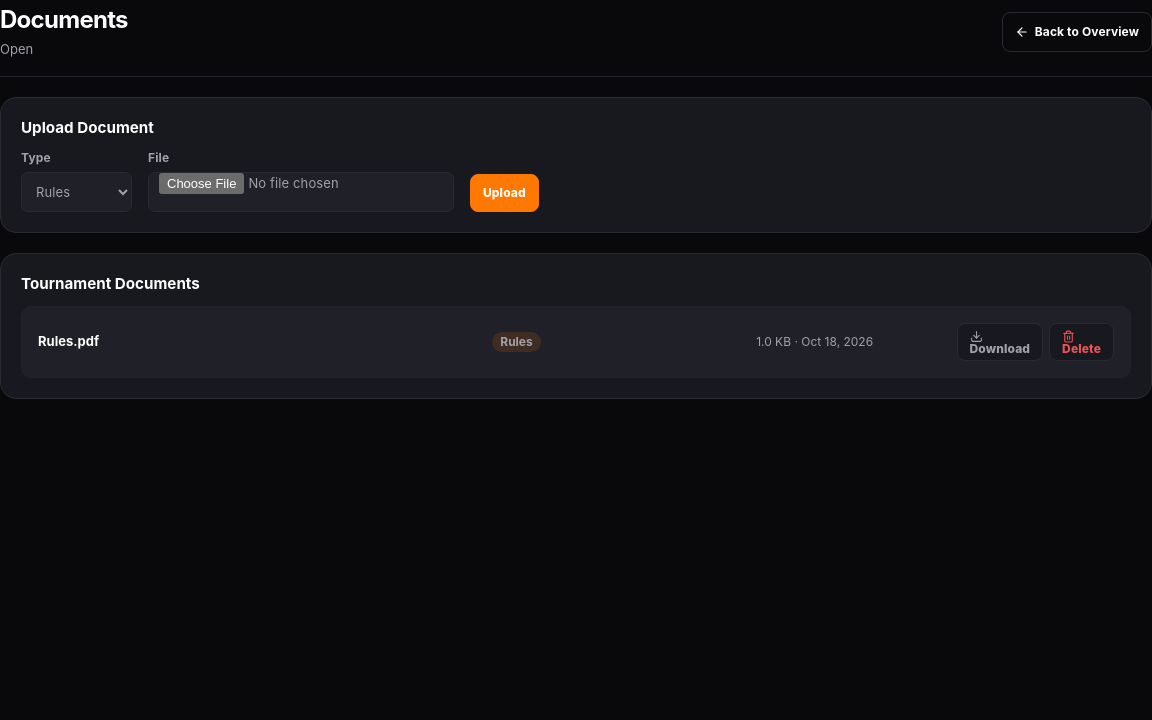
Scenario: document deletion confirmation › keeps the document when cancelled and deletes only after confirmation
This screenshot has width=1152, height=720.
Click the button with aria-label "Delete Rules.pdf" at [1082, 342], box [1049, 323, 1114, 361]
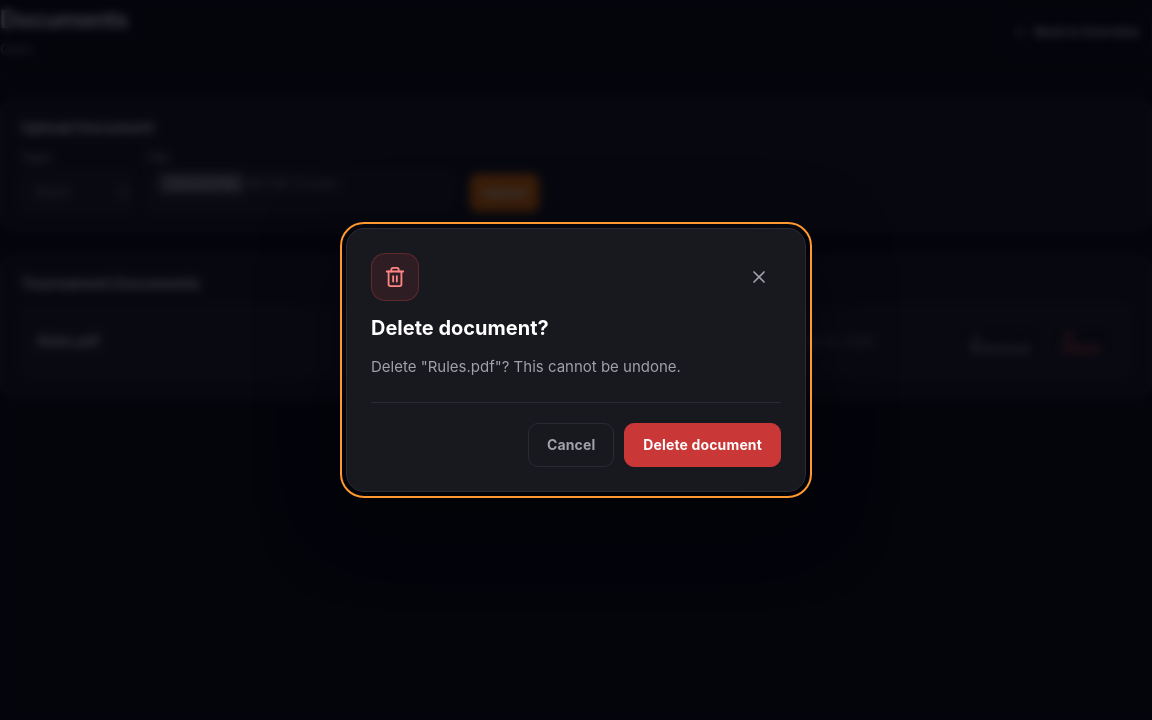
Now the dialog "Delete document?" shows "Rules.pdf", box [371, 357, 681, 376]
Click the button "Cancel" at [571, 445], box [528, 423, 614, 467]
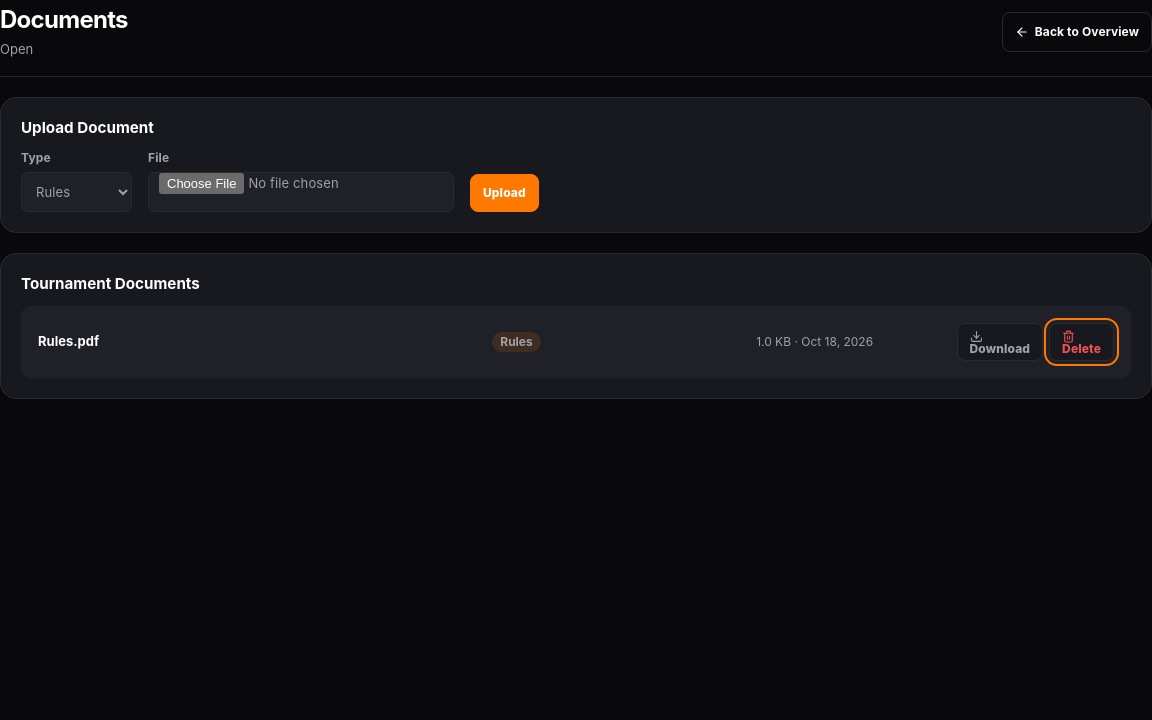
Click the button with aria-label "Delete Rules.pdf" at [1082, 342], box [1049, 323, 1114, 361]
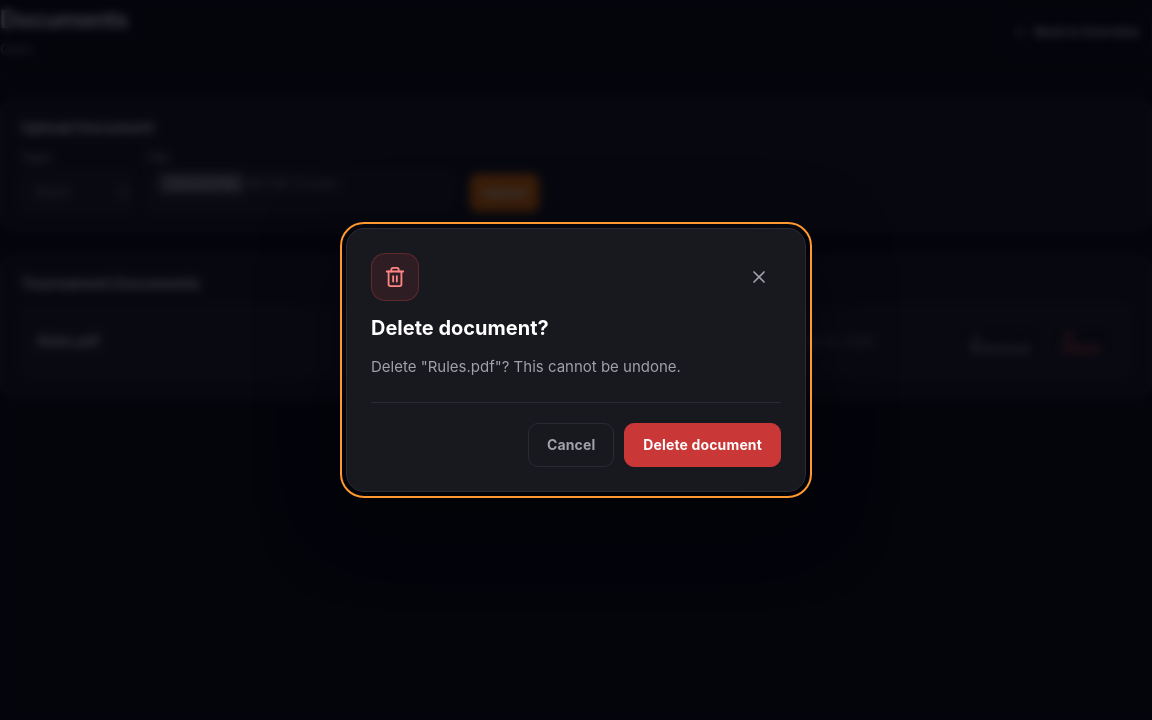
Click the button "Delete document" at [703, 445], box [624, 423, 781, 467]
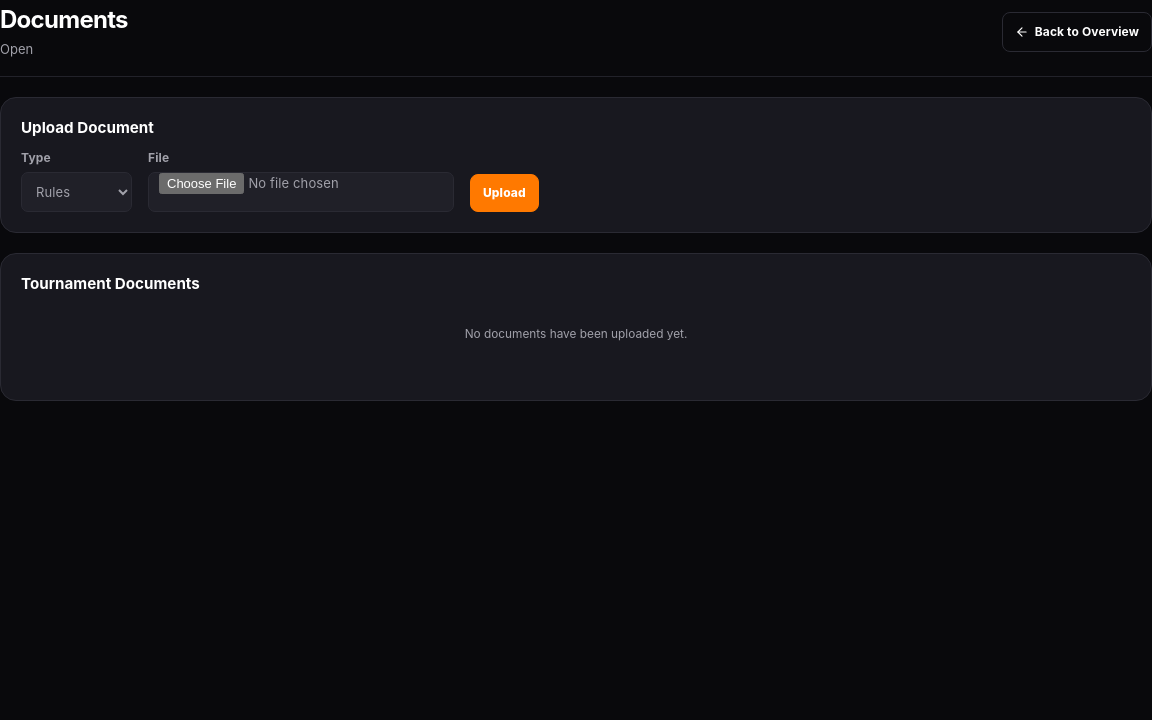
Now the text "No documents have been uploaded yet." is shown, box [465, 327, 687, 341]
